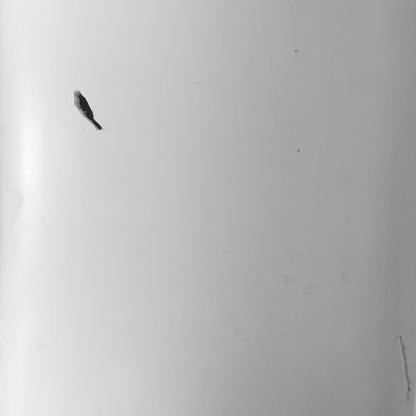kongdong: (63, 85, 113, 137)
sunshang: (392, 331, 413, 408)
